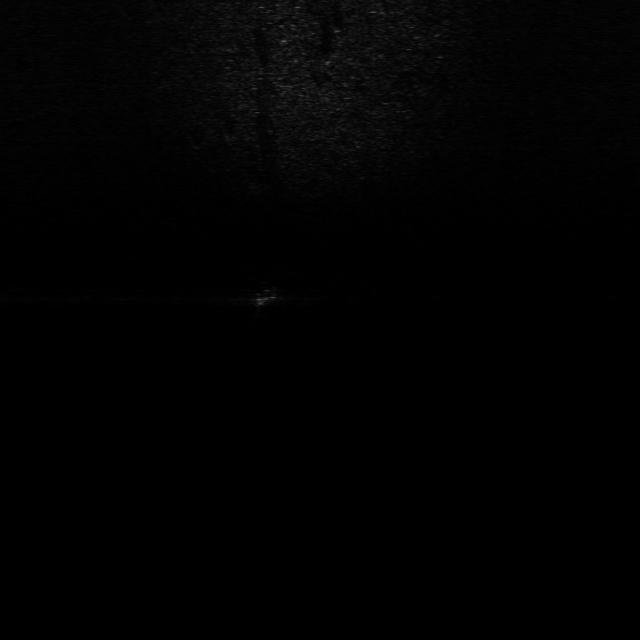human body: (244, 275, 280, 320)
